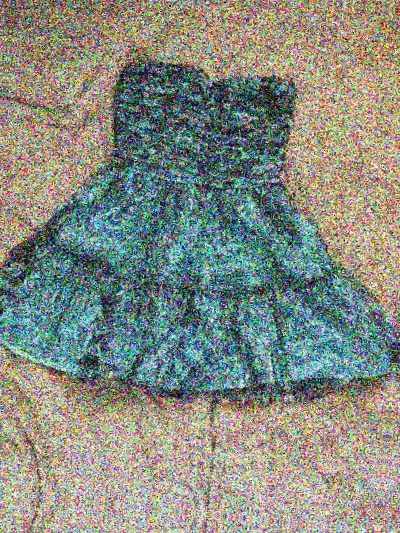Dress: (0, 37, 400, 418), (391, 80, 400, 461), (0, 0, 5, 375)
